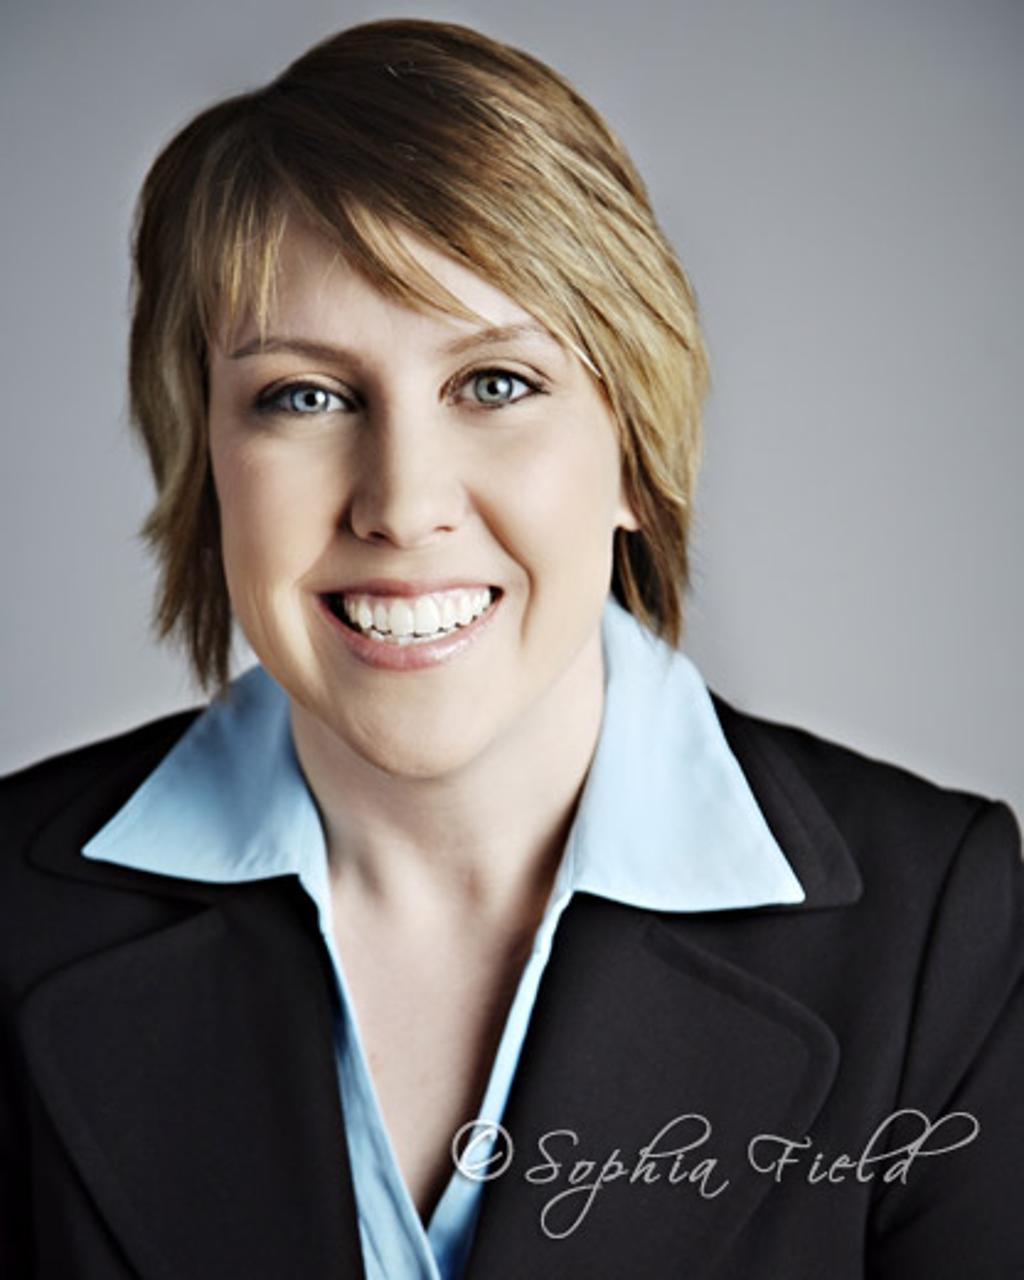face: (205, 185, 617, 782)
